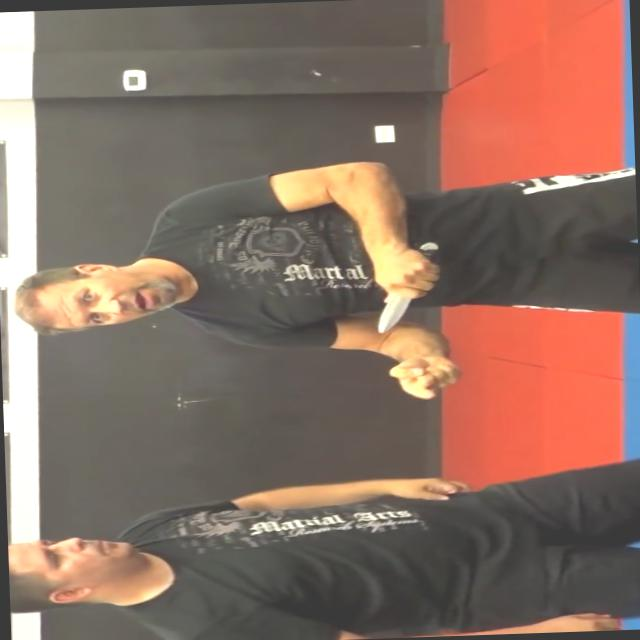knife: (364, 237, 448, 336)
